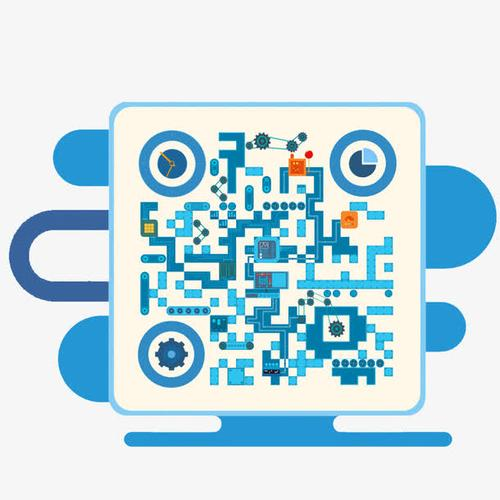QRCode: (124, 123, 403, 395)
